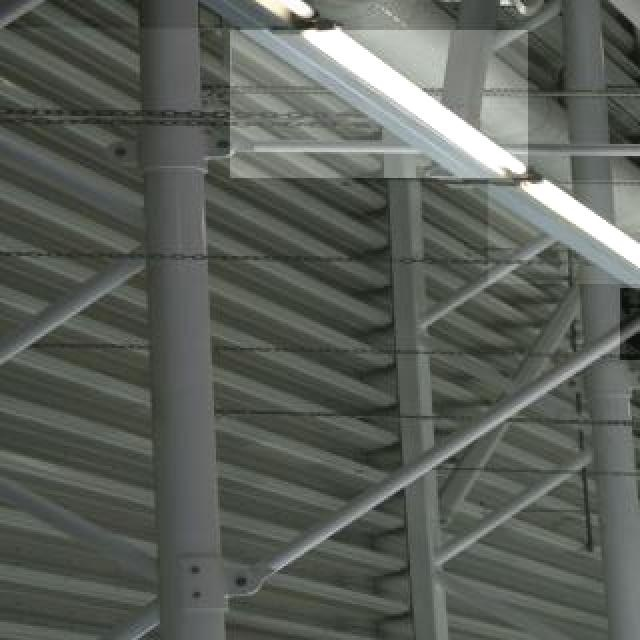fluorescent tube: (302, 11, 534, 185), (504, 158, 640, 292), (0, 0, 322, 30)
